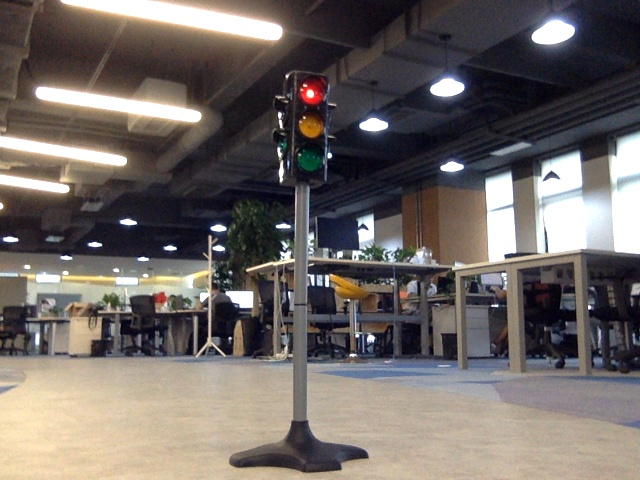red: (287, 73, 325, 175)
